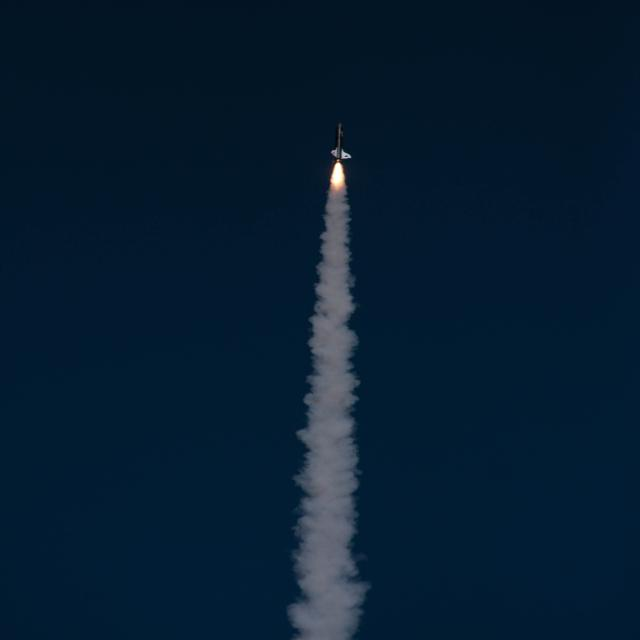Rocket: (330, 122, 352, 165)
